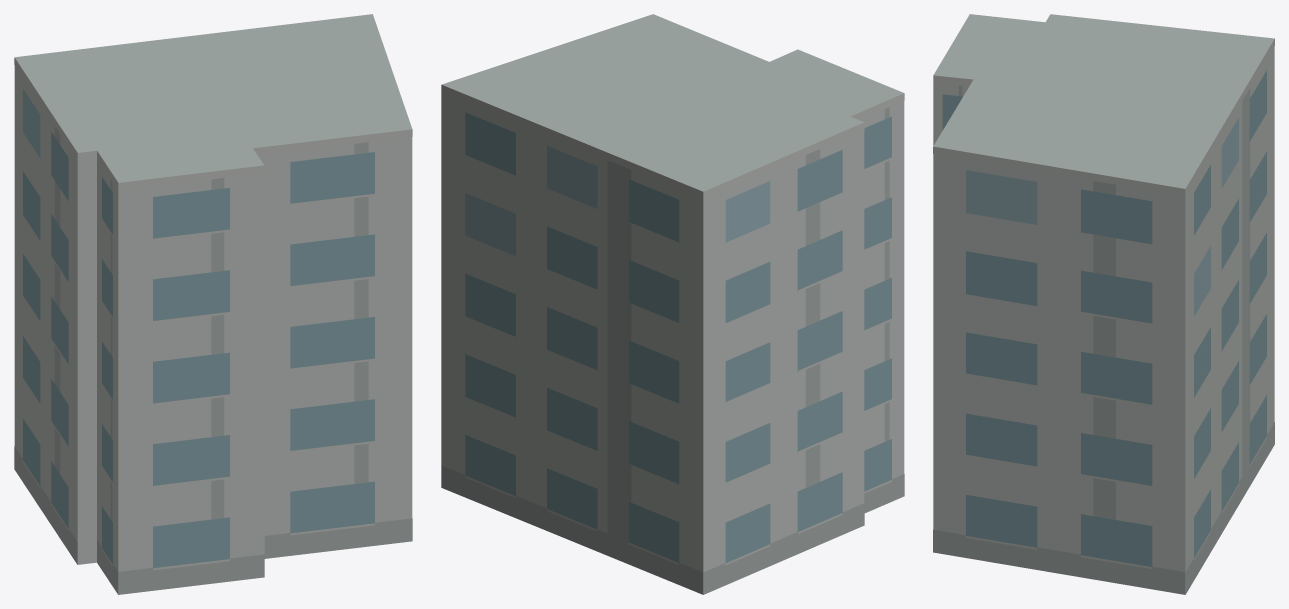
File: survey-upis-32527792.glb
The picture shows the model from 3 angles, left to right: view 1: azimuth 30°, elevation 25°; view 2: azimuth 150°, elevation 25°; view 3: azimuth 270°, elevation 25°; orthographic projection. The views are drawn at different scales.
Visible parts, largest first — view 1: survey-upis-32527792.tmp; view 2: survey-upis-32527792.tmp; view 3: survey-upis-32527792.tmp.
Boxes of the visible parts, <box> form: survey-upis-32527792.tmp: <box>14,14,412,594</box>; survey-upis-32527792.tmp: <box>441,14,904,594</box>; survey-upis-32527792.tmp: <box>933,14,1274,594</box>.
Bounding box in the file's own units: 12.21 × 13.2 × 10.08.
